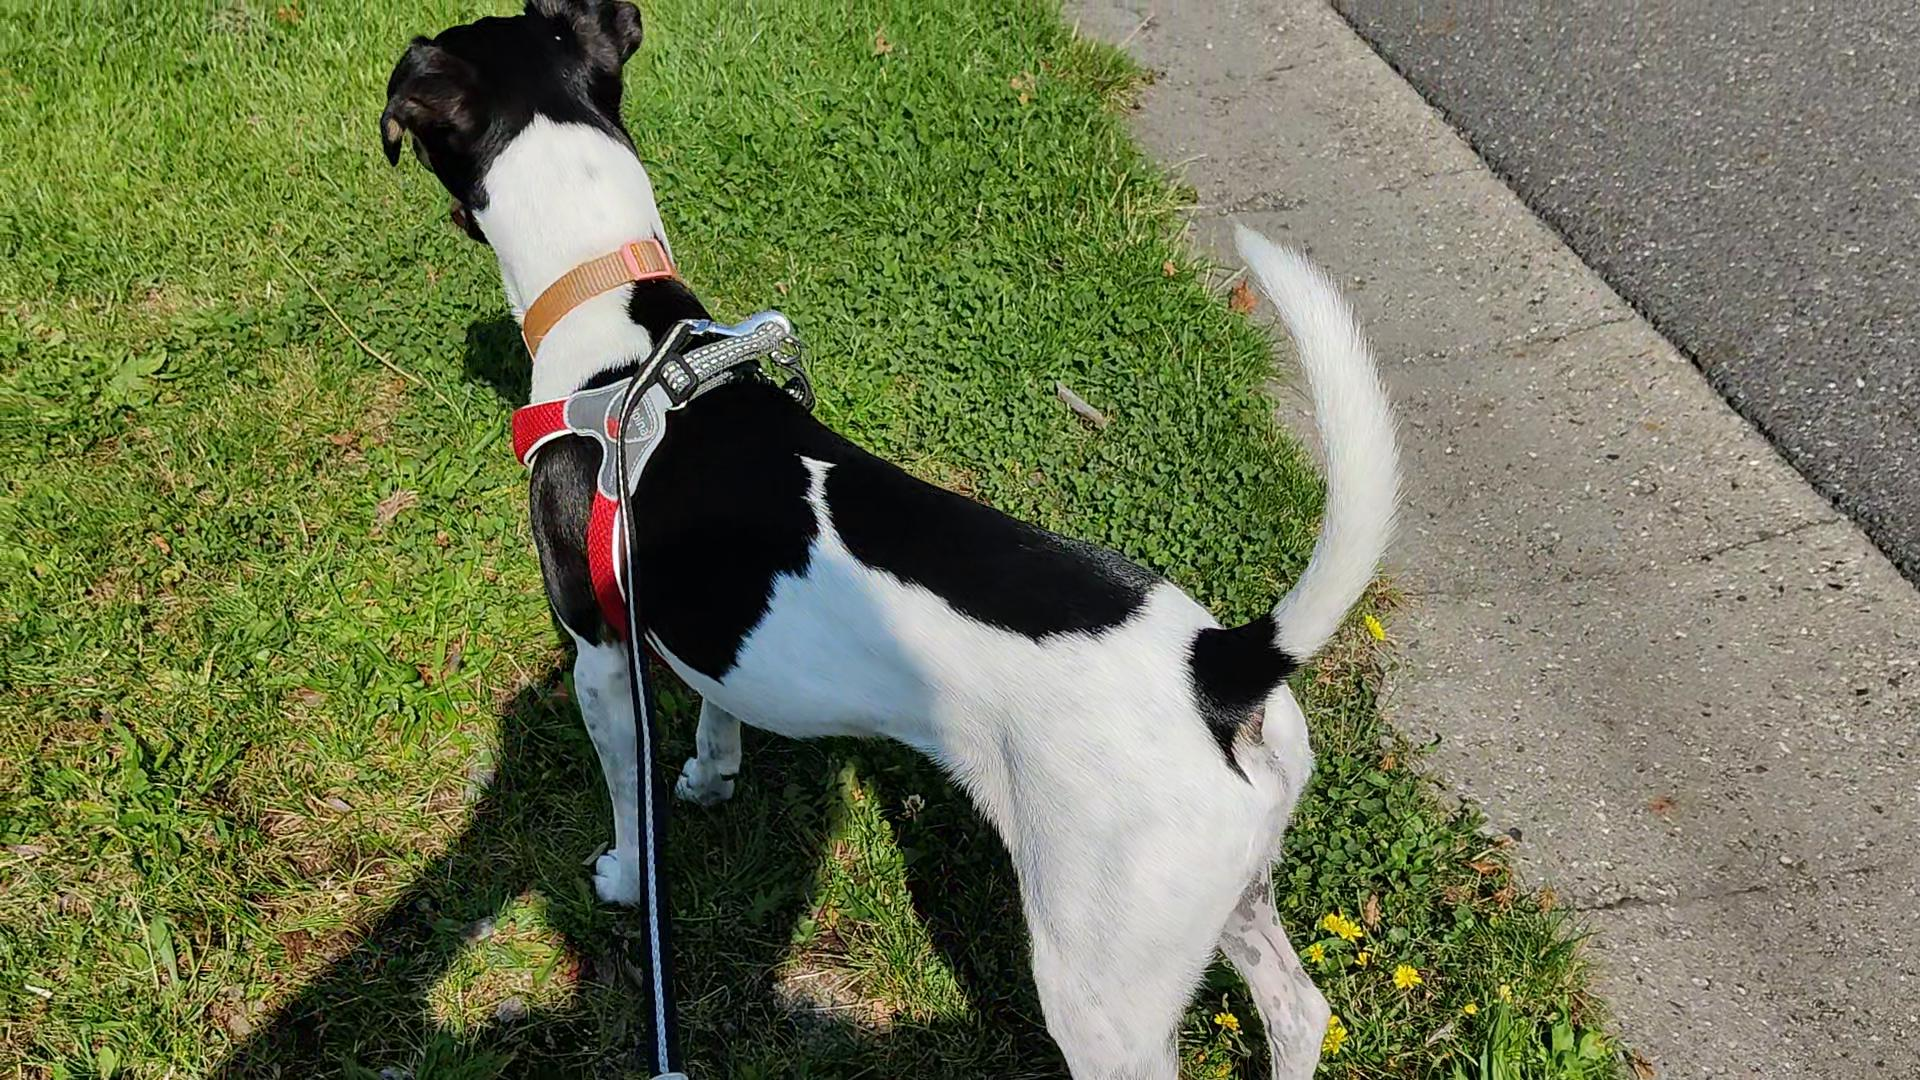Dog: (378, 0, 1403, 1079)
